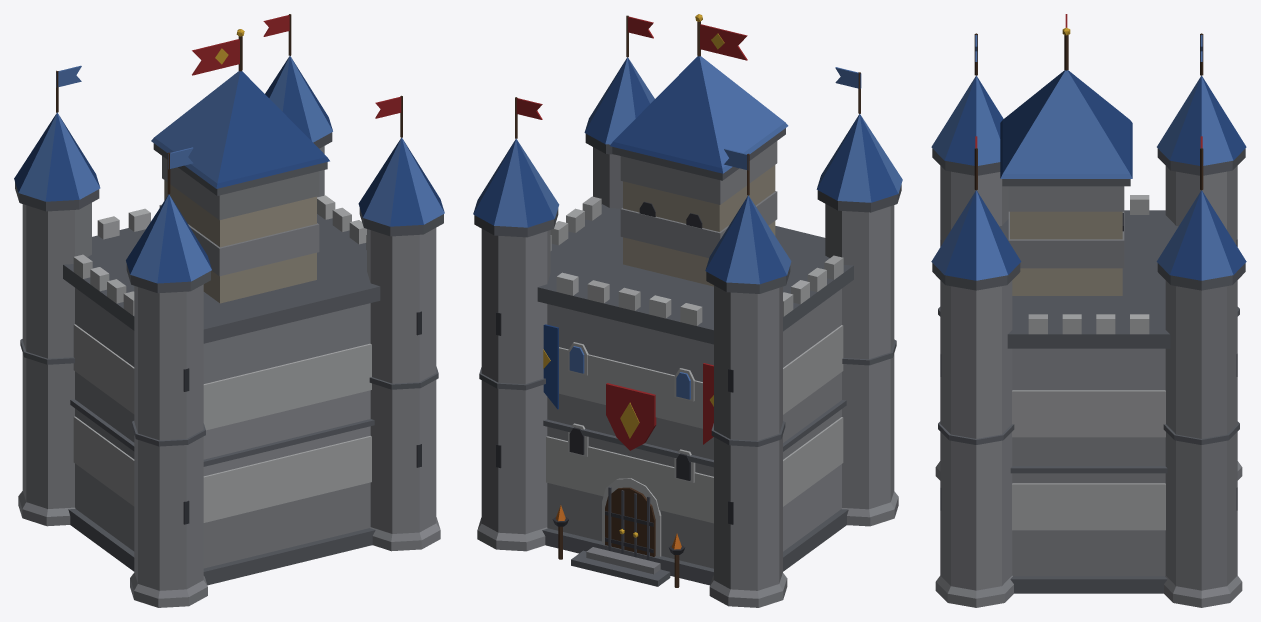
Rendered from Decor_KnightCastle_Keep.fbx.
The picture shows the model from 3 angles, left to right: view 1: azimuth 30°, elevation 25°; view 2: azimuth 150°, elevation 25°; view 3: azimuth 270°, elevation 25°; orthographic projection.
Parts seen in each view (by area): view 1: Keep_Body; view 2: Keep_Body; view 3: Keep_Body.
Part boxes in pixels (x1=…): Keep_Body: x1=14, y1=14, x2=444, y2=607; Keep_Body: x1=473, y1=14, x2=902, y2=607; Keep_Body: x1=931, y1=14, x2=1246, y2=607.
Size of the model in its own units: 31.4 by 48.5 by 27.4.
